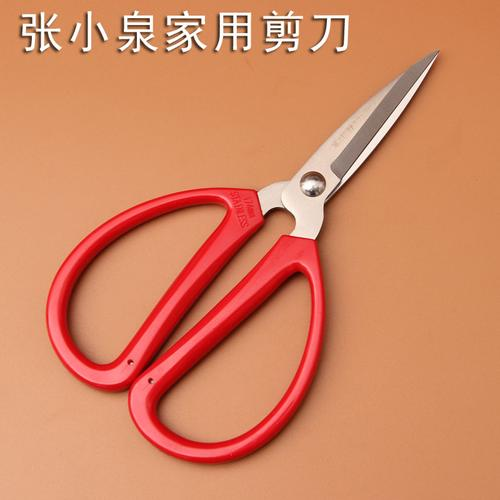scissor: (45, 48, 441, 454)
